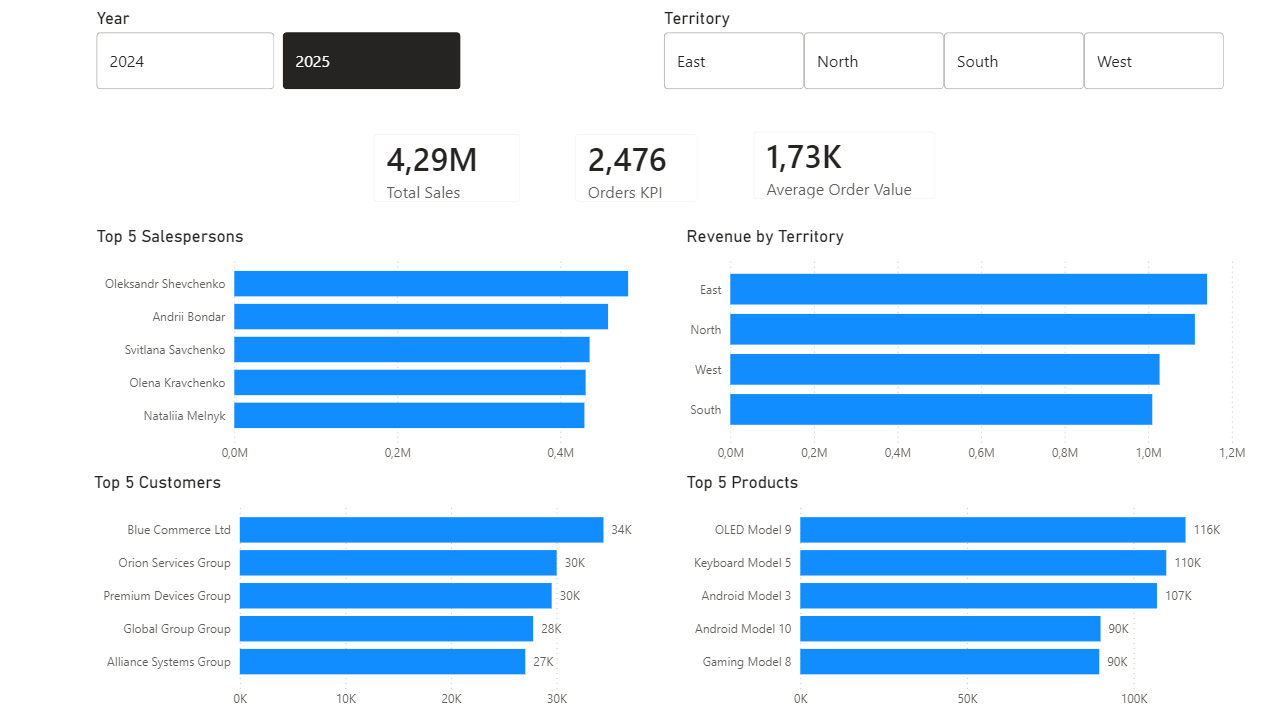

What the dashboard file says about the page in this screenshot:
{"tool":"powerbi","page":{"name":"Sales Analysis","canvas":[1280,720],"ordinal":1},"visuals":[{"type":"advancedSlicerVisual","fields":{"Values":["Calendar.Year"]},"box":[91.9,11,374.6,86.4],"z":0},{"type":"advancedSlicerVisual","fields":{"Values":["SalesTerritory.Territory"]},"box":[660,11,591.4,105.7],"z":1000},{"type":"barChart","title":"Top 5 Salespersons","fields":{"Category":["SalesPerson.SalesPerson"],"Y":["Measures (2).Total Sales"]},"box":[91.9,229.2,569.5,245.6],"z":2000},{"type":"clusteredBarChart","title":"Revenue by Territory","fields":{"Category":["SalesTerritory.Territory"],"Y":["Measures (2).Total Sales"]},"box":[682,229.2,569.5,245.6],"z":3000},{"type":"clusteredBarChart","title":"Top 5 Products","fields":{"Category":["Products.Product"],"Y":["Measures (2).Total Sales"]},"box":[682,474.8,569.5,245.6],"z":4000},{"type":"clusteredBarChart","title":"Top 5 Customers","fields":{"Category":["Customers.Customer"],"Y":["Measures (2).Total Sales"]},"box":[90.6,474.8,569.5,245.6],"z":5000},{"type":"cardVisual","fields":{"Data":["Measures (2).Total Sales"]},"box":[357.9,119.4,181.1,102.9],"z":6000},{"type":"cardVisual","fields":{"Data":["Measures (2).Average Order Value"]},"box":[738,118,216.8,102.9],"z":7000},{"type":"cardVisual","fields":{"Data":["Measures (2).Orders Display"]},"box":[558.2,119.4,157.8,102.9],"z":8000}]}

Visuals, with their boxes in screenshot pixels (x1, y1, x2, y2), scaled from the page's 1280x720 canvas onto the 1275x714 screenshot:
advancedSlicerVisual - Calendar.Year: (left=92, top=11, right=465, bottom=97)
advancedSlicerVisual - SalesTerritory.Territory: (left=657, top=11, right=1247, bottom=116)
"Top 5 Salespersons" barChart: (left=92, top=227, right=659, bottom=471)
"Revenue by Territory" clusteredBarChart: (left=679, top=227, right=1247, bottom=471)
"Top 5 Products" clusteredBarChart: (left=679, top=471, right=1247, bottom=713)
"Top 5 Customers" clusteredBarChart: (left=90, top=471, right=658, bottom=713)
cardVisual - Measures (2).Total Sales: (left=357, top=118, right=537, bottom=220)
cardVisual - Measures (2).Average Order Value: (left=735, top=117, right=951, bottom=219)
cardVisual - Measures (2).Orders Display: (left=556, top=118, right=713, bottom=220)
